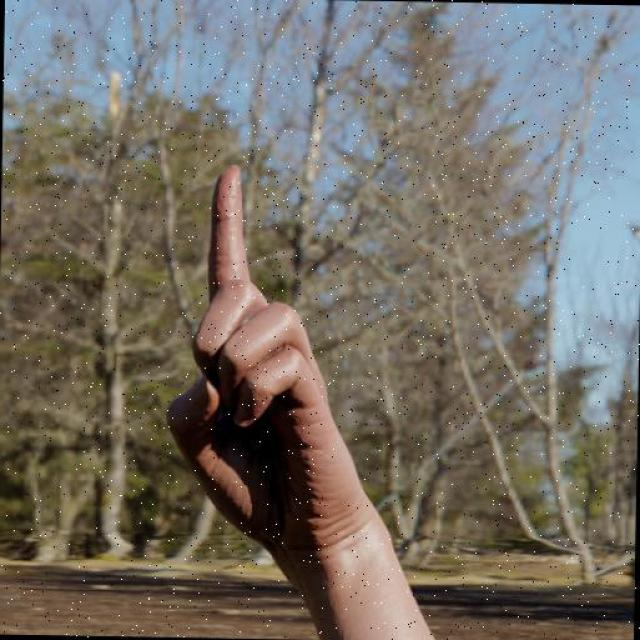D: (158, 154, 376, 567)
